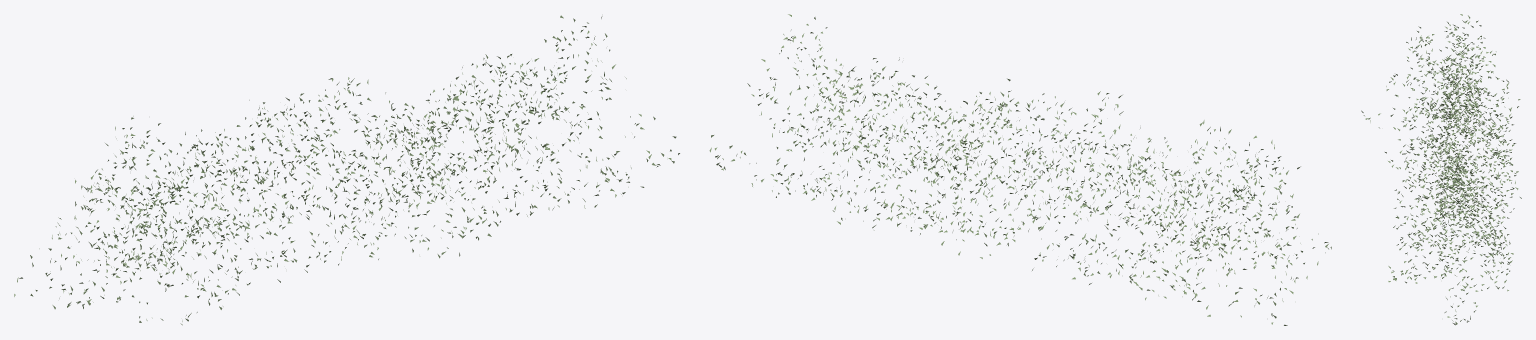
File: xiyuan-vegetation-29-far.glb
3 renders of one model, left to right at view 1: azimuth 30°, elevation 25°; view 2: azimuth 150°, elevation 25°; view 3: azimuth 270°, elevation 25°, orthographic. The views are drawn at different scales.
Parts seen in each view (by area): view 1: vegetation cedar leaves.004; view 2: vegetation cedar leaves.004; view 3: vegetation cedar leaves.004.
Boxes of the visible parts, x1,y1,x2,y2 form: vegetation cedar leaves.004: (14, 15, 679, 325); vegetation cedar leaves.004: (709, 14, 1331, 325); vegetation cedar leaves.004: (1361, 14, 1521, 325).
Size of the model in its own units: 38.43 by 11.13 by 11.57.
